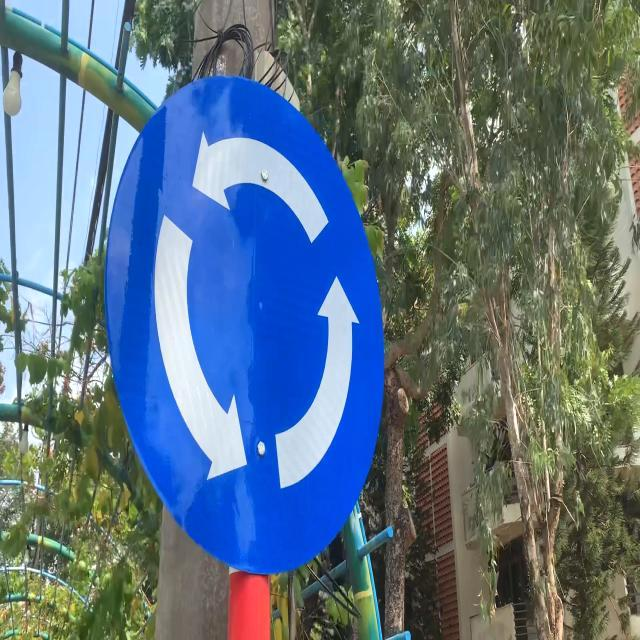Noi giao nhau chay theo vong xuyen: (104, 60, 396, 580)
